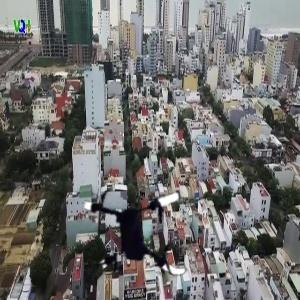drone: (81, 168, 207, 294)
